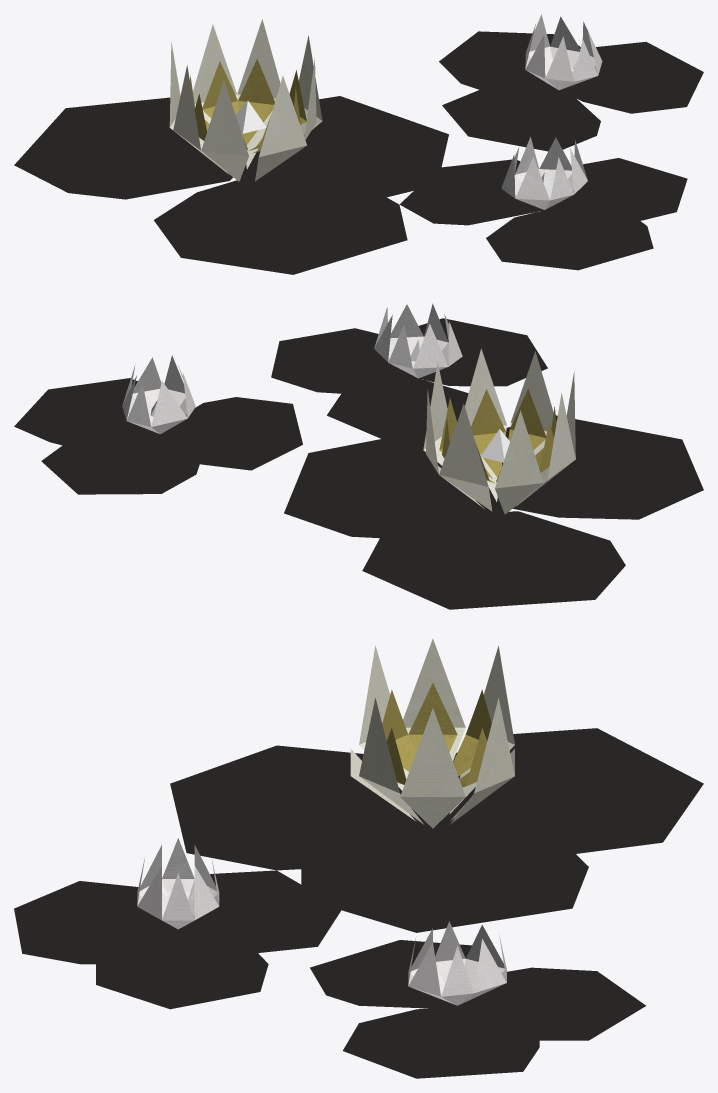
File: obj_waterlily_1_0.obj
3 views of the same model, one above another, from view 1: azimuth 30°, elevation 25°; view 2: azimuth 150°, elevation 25°; view 3: azimuth 270°, elevation 25° (orthographic). The views are drawn at different scales.
Bounding box in the file's own units: 0.7891 × 0.1562 × 0.6562.
